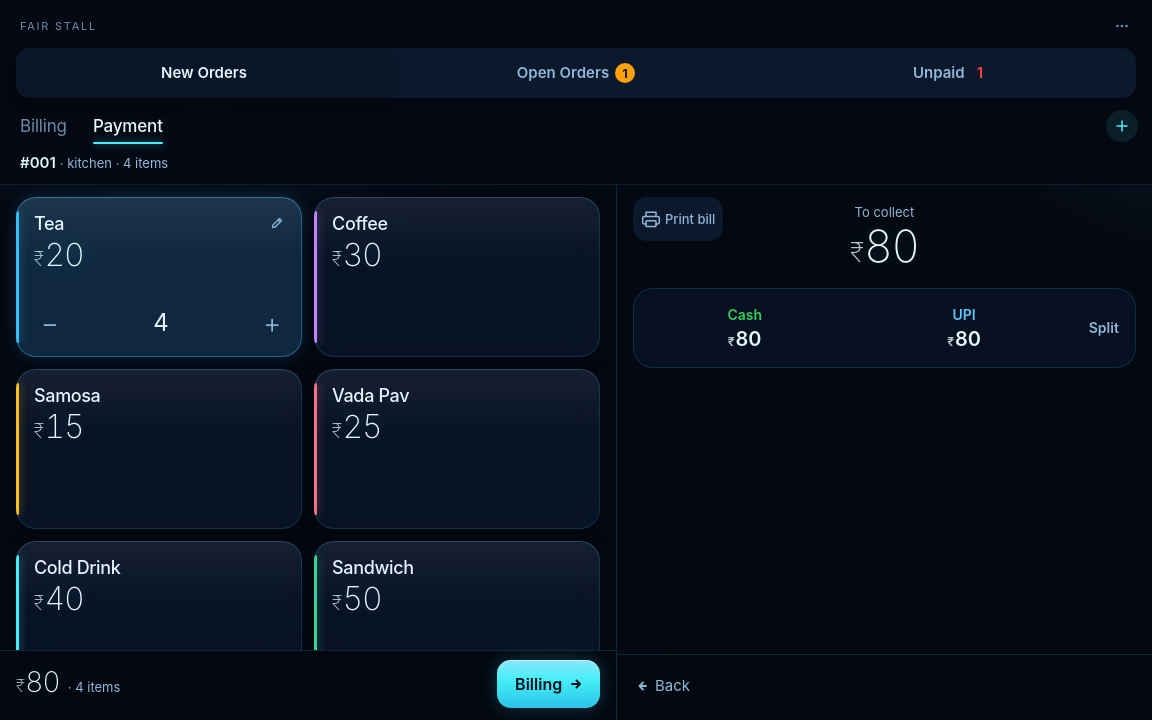
Test: pay3 split lock › locked UPI stays; Cash absorbs + Tip and − Waive
Later steps or results of the test are not shown.
Step 1. Click the button "Split" → (1104, 328), box [1076, 292, 1132, 364]
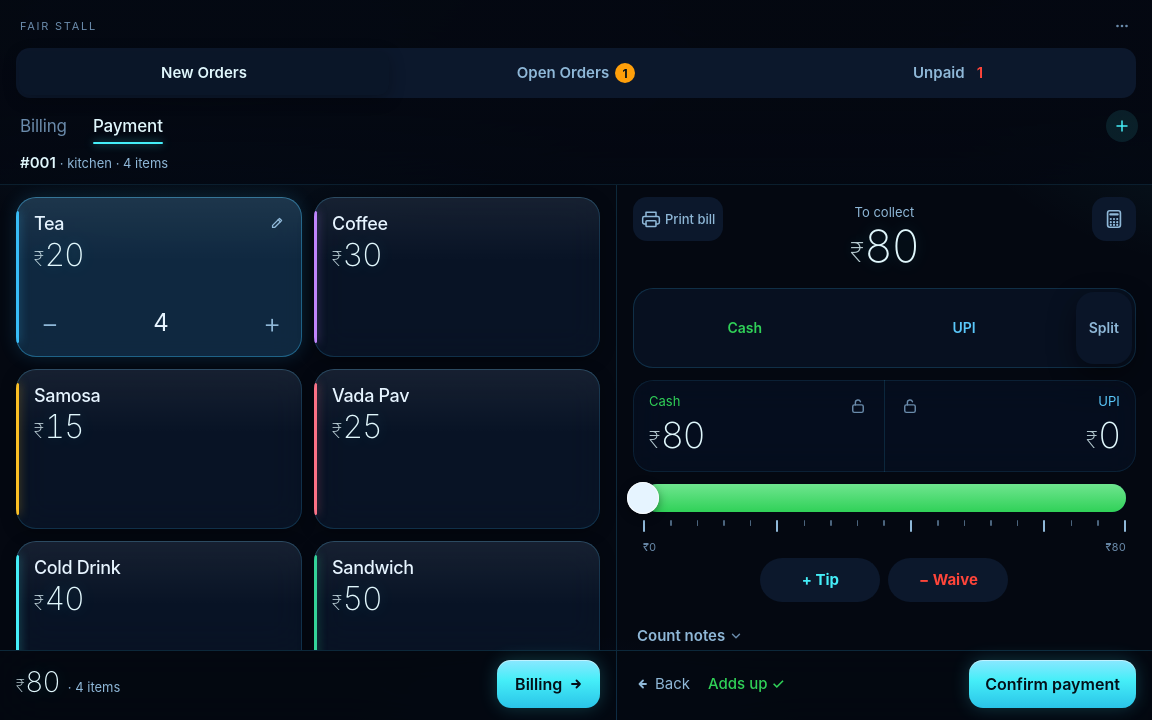
Step 2. Press ArrowRight in the slider named "Cash and UPI split", box [643, 484, 1126, 512]
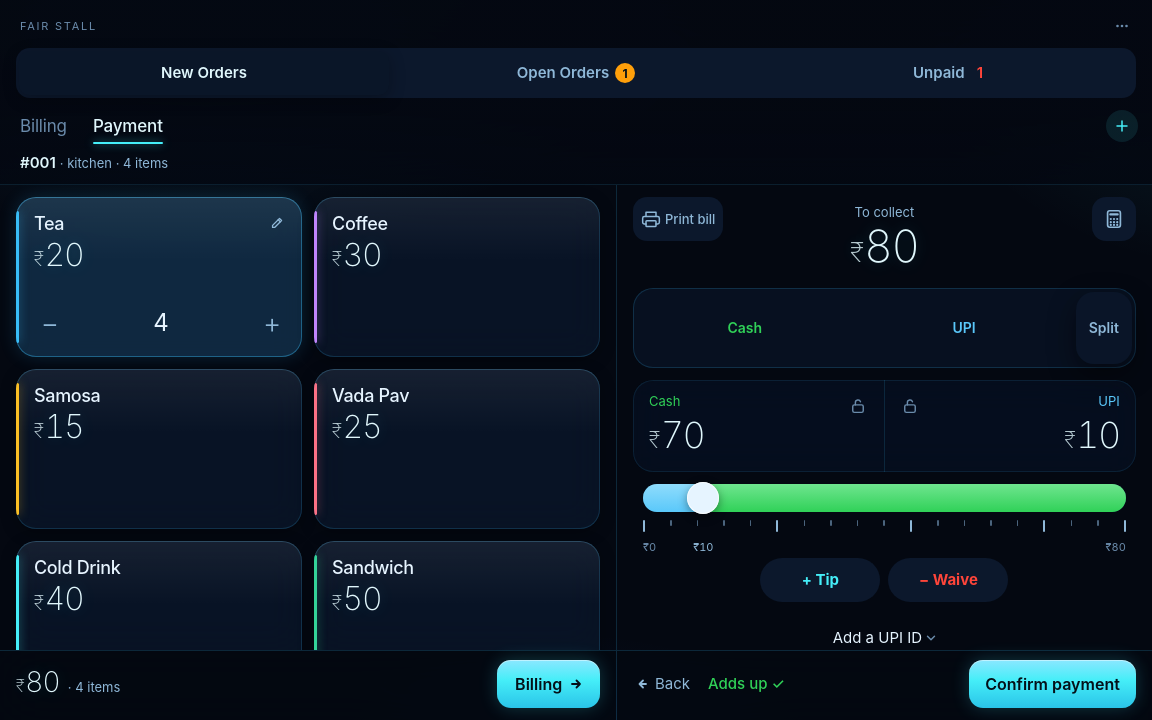
Step 3. Press ArrowRight in the slider named "Cash and UPI split", box [643, 484, 1126, 512]
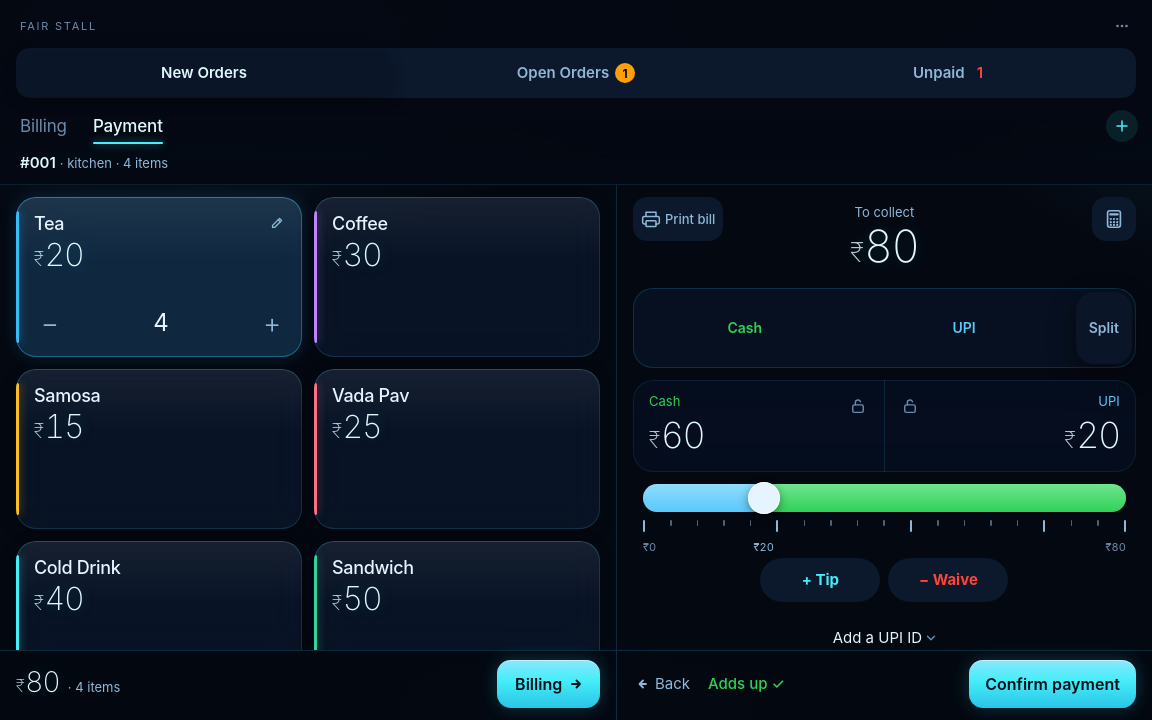
Step 4. Press ArrowRight in the slider named "Cash and UPI split", box [643, 484, 1126, 512]
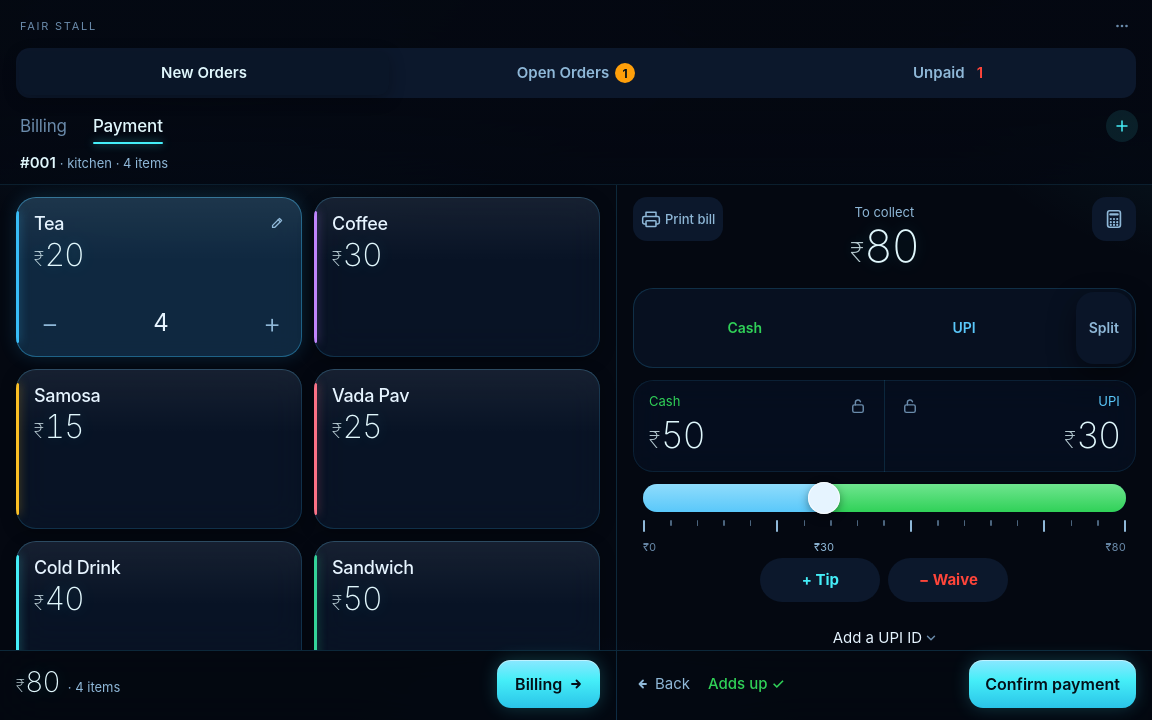
Step 5. Press ArrowRight in the slider named "Cash and UPI split", box [643, 484, 1126, 512]
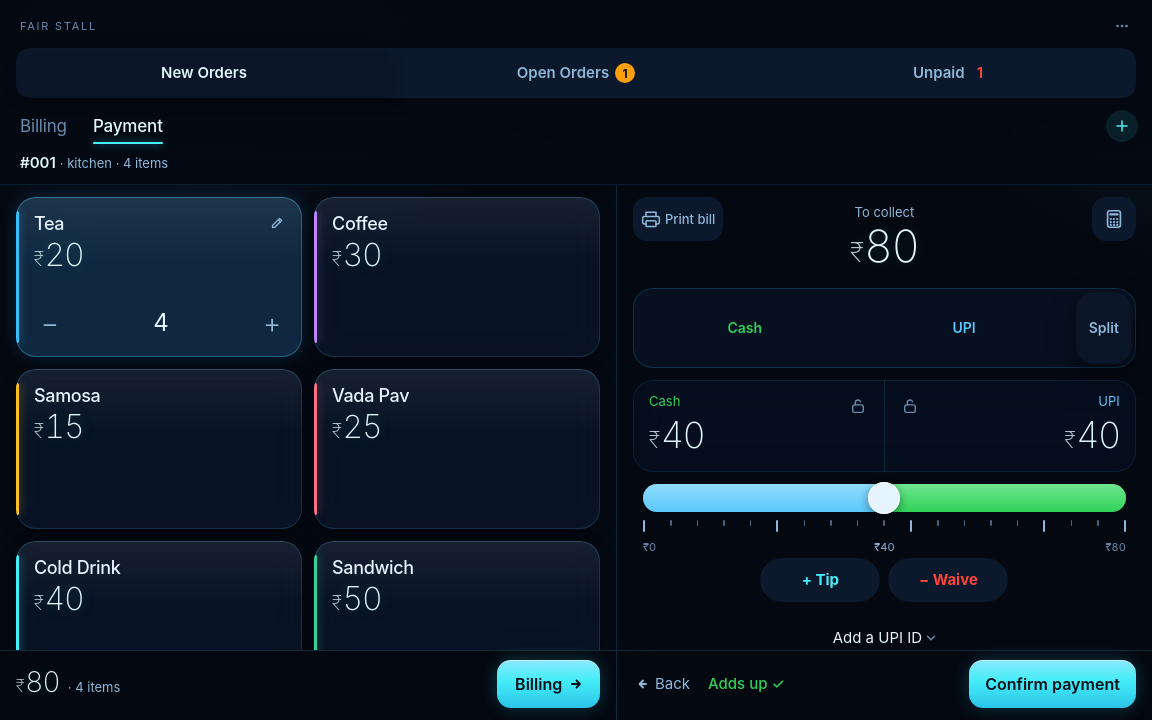
Step 6. Click the button named "Lock UPI" → (911, 406), box [889, 384, 933, 428]
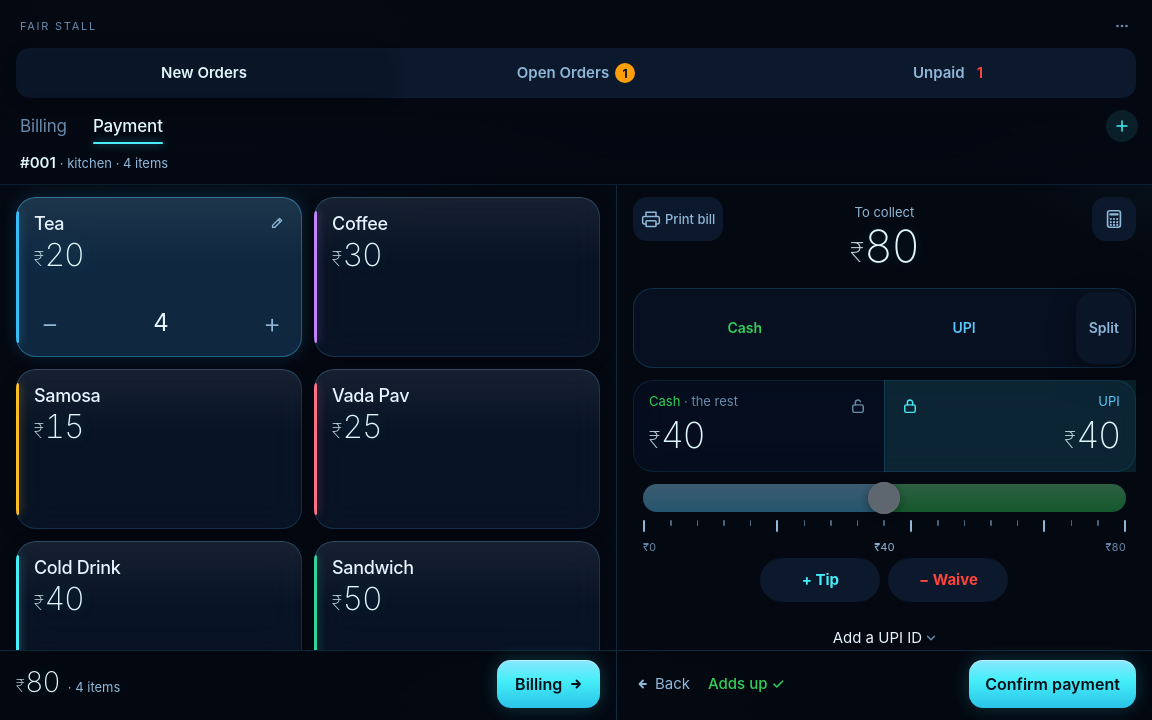
expect the button named "Unlock UPI" is pressed: met, box [889, 384, 933, 428]
